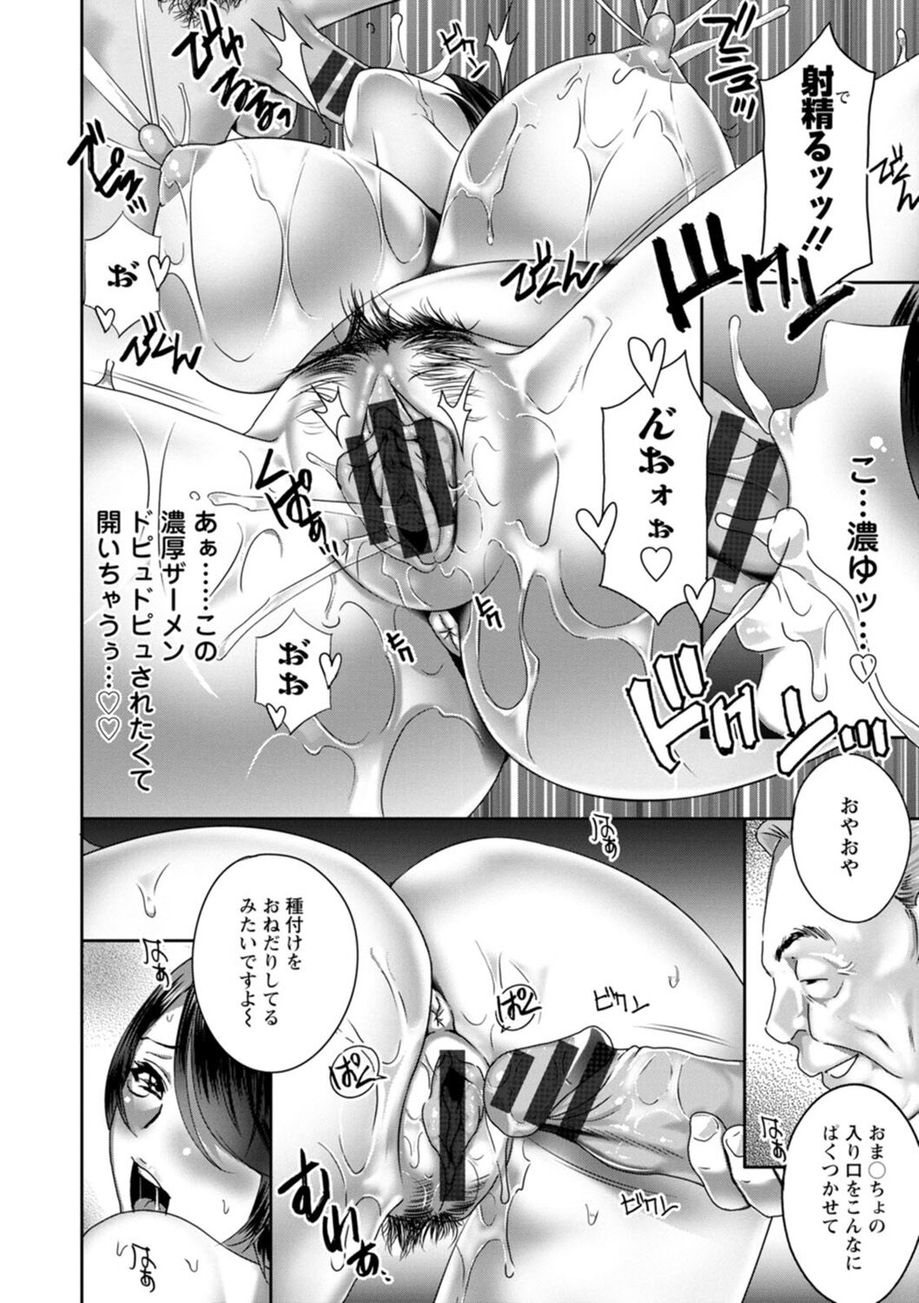text_region: (92, 504, 221, 800), (818, 1116, 891, 1280), (797, 64, 850, 255), (234, 895, 307, 1031), (846, 450, 888, 652), (629, 405, 683, 543), (274, 635, 314, 706), (836, 792, 863, 887), (105, 256, 144, 301)
